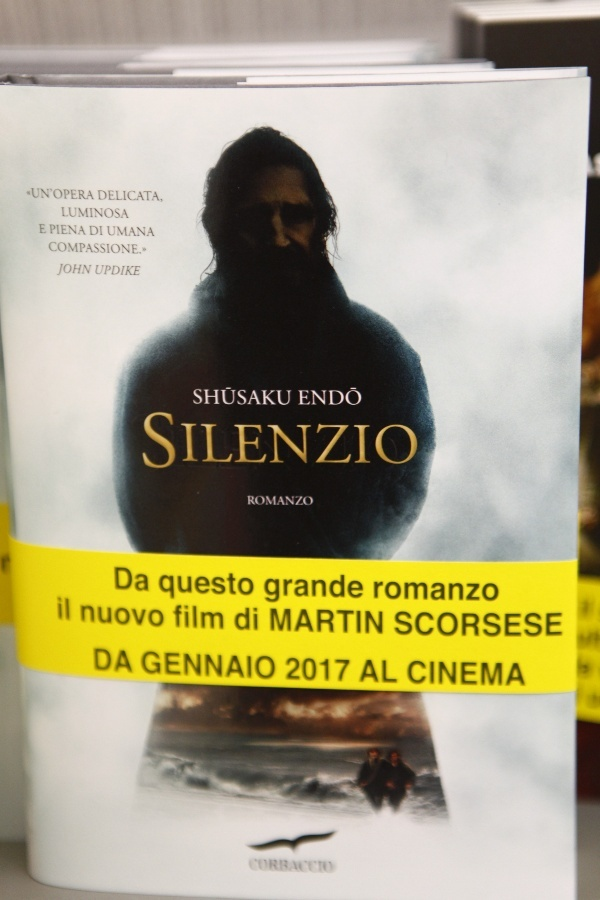text: (145, 408, 160, 474), (161, 408, 176, 474), (177, 408, 192, 474), (193, 408, 208, 474), (209, 408, 224, 474), (225, 408, 240, 474), (241, 408, 256, 474), (257, 408, 272, 474), (273, 408, 288, 474), (289, 408, 304, 474), (305, 408, 320, 474), (321, 408, 336, 474), (337, 408, 352, 474), (353, 408, 368, 474), (369, 408, 384, 474), (385, 408, 400, 474), (401, 408, 416, 474), (145, 649, 160, 682), (161, 649, 176, 682), (177, 649, 192, 682), (193, 649, 208, 682), (209, 649, 224, 682), (225, 649, 240, 682), (241, 649, 256, 682), (257, 649, 272, 682), (273, 573, 288, 605), (289, 573, 304, 605), (305, 573, 320, 605), (321, 573, 336, 605), (337, 573, 352, 605), (401, 608, 416, 640), (417, 608, 432, 640), (433, 608, 448, 640), (449, 608, 464, 640), (465, 608, 480, 640), (481, 608, 496, 640), (497, 608, 512, 640), (513, 608, 528, 640), (529, 608, 544, 640), (545, 608, 560, 640), (161, 570, 176, 601), (177, 570, 192, 601), (193, 570, 208, 601), (209, 570, 224, 601), (225, 570, 240, 601), (273, 607, 288, 636), (289, 607, 304, 636), (305, 607, 320, 636), (321, 607, 336, 636), (337, 607, 352, 636), (353, 607, 368, 636), (97, 646, 112, 675), (113, 646, 128, 675), (417, 658, 432, 687), (433, 658, 448, 687), (449, 658, 464, 687), (465, 658, 480, 687), (481, 658, 496, 687), (497, 658, 512, 687), (177, 603, 192, 631), (193, 603, 208, 631), (209, 603, 224, 631), (241, 606, 256, 634), (289, 656, 304, 684), (305, 656, 320, 684), (321, 656, 336, 684), (337, 656, 352, 684), (369, 607, 383, 636), (513, 658, 527, 687), (241, 570, 254, 601), (81, 604, 96, 630), (97, 604, 112, 630), (113, 604, 128, 630), (129, 604, 144, 630), (145, 604, 160, 630), (369, 659, 384, 685), (385, 659, 400, 685), (129, 567, 144, 592), (353, 573, 364, 605), (114, 567, 128, 592), (385, 580, 400, 603), (401, 580, 416, 603), (417, 580, 432, 603), (433, 580, 448, 603), (449, 580, 464, 603), (465, 580, 480, 603), (481, 580, 496, 603), (193, 386, 208, 408), (209, 386, 224, 408), (225, 386, 240, 408), (241, 386, 256, 408), (257, 386, 272, 408), (273, 386, 288, 408), (305, 387, 320, 408), (321, 387, 336, 408), (337, 387, 352, 408), (257, 858, 272, 876), (273, 858, 288, 876), (289, 858, 304, 876), (305, 858, 320, 876), (264, 573, 272, 605), (373, 580, 384, 603), (321, 858, 335, 876), (408, 658, 416, 687), (353, 387, 364, 408), (49, 241, 64, 256), (65, 241, 80, 256), (81, 241, 96, 256), (97, 241, 112, 256), (113, 241, 128, 256), (129, 241, 144, 256), (33, 187, 48, 201), (49, 187, 64, 201), (65, 187, 80, 201), (65, 263, 80, 277), (257, 494, 272, 508), (273, 494, 288, 508), (289, 494, 304, 508), (81, 187, 95, 201), (97, 190, 112, 203), (113, 190, 128, 203), (129, 190, 144, 203), (145, 190, 160, 203), (65, 206, 80, 219), (81, 206, 96, 219), (97, 206, 112, 219), (113, 206, 128, 219), (97, 264, 112, 277), (113, 264, 128, 277), (394, 608, 400, 640), (49, 224, 64, 236), (65, 224, 80, 236), (57, 596, 64, 621), (129, 646, 135, 675), (113, 226, 128, 237), (129, 226, 144, 237), (129, 264, 141, 277), (81, 263, 92, 277), (305, 494, 315, 508), (235, 606, 240, 634), (417, 408, 419, 474), (298, 387, 304, 408), (247, 494, 256, 508), (249, 858, 256, 876), (65, 596, 70, 621), (145, 226, 156, 237), (39, 223, 48, 235), (145, 567, 149, 592), (141, 649, 144, 682), (561, 608, 564, 640), (289, 386, 293, 408), (269, 607, 272, 636), (93, 646, 96, 675), (26, 187, 32, 201), (173, 603, 176, 631), (161, 604, 164, 630), (81, 224, 87, 236), (89, 226, 96, 236), (97, 226, 104, 236), (273, 649, 275, 682), (60, 263, 64, 277), (286, 656, 288, 684), (107, 226, 112, 237), (366, 659, 368, 685), (497, 580, 499, 603), (161, 190, 164, 203), (61, 206, 64, 219), (159, 570, 160, 601), (145, 241, 147, 256), (257, 606, 258, 634), (129, 206, 130, 219)
